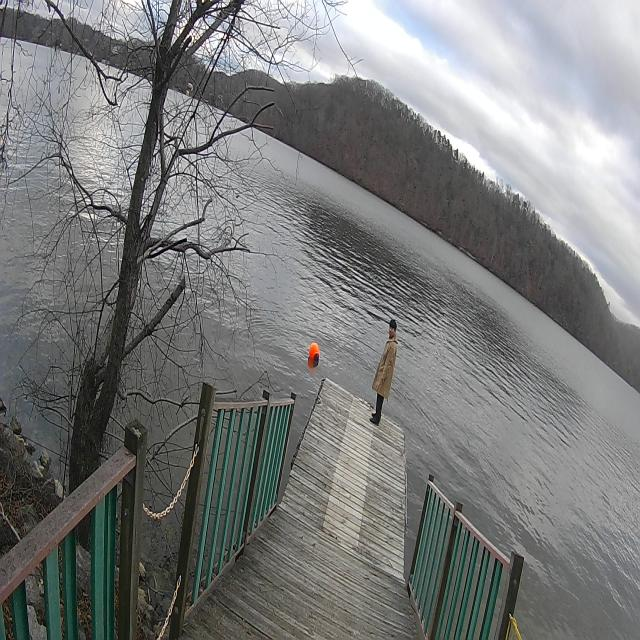Buoy: (307, 338, 321, 367)
